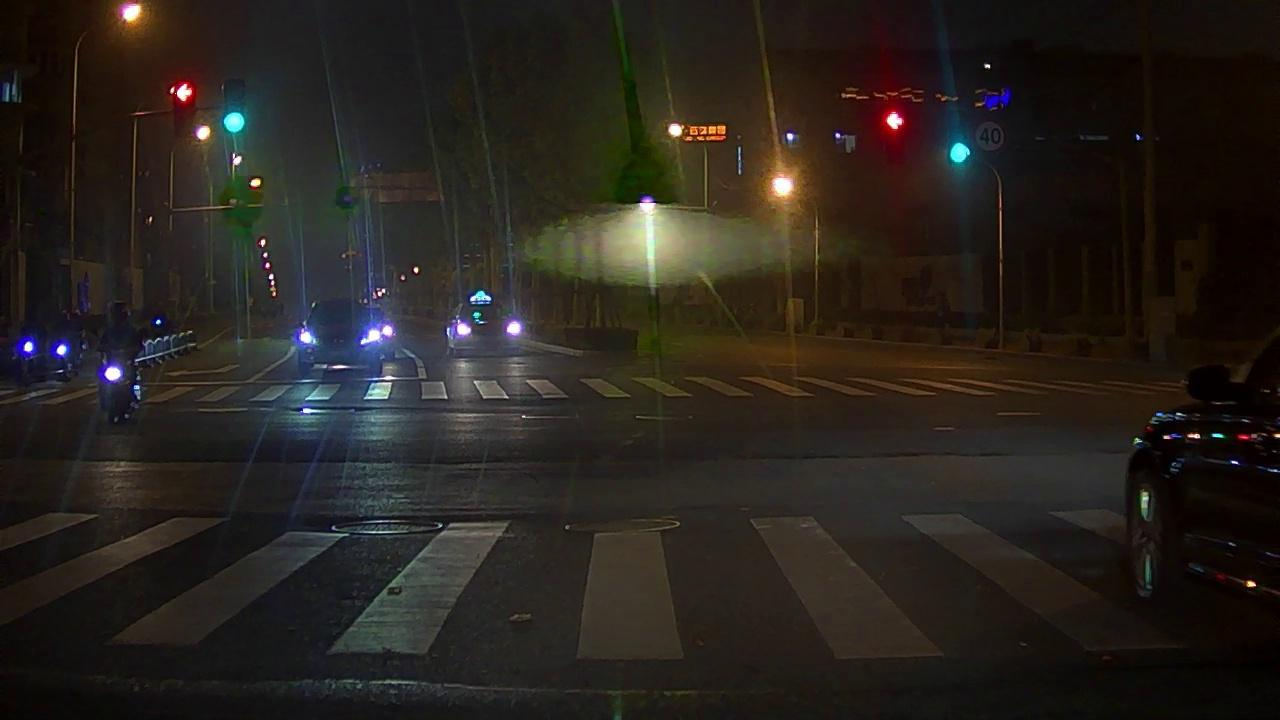traffic_light: (224, 79, 244, 134), (175, 84, 193, 135), (948, 144, 969, 164), (886, 110, 903, 131)
